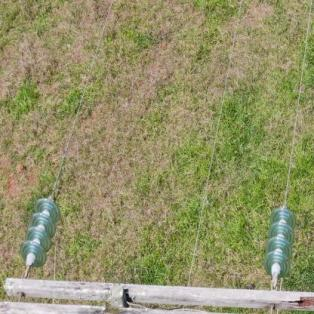Poste: (109, 274, 220, 314)
